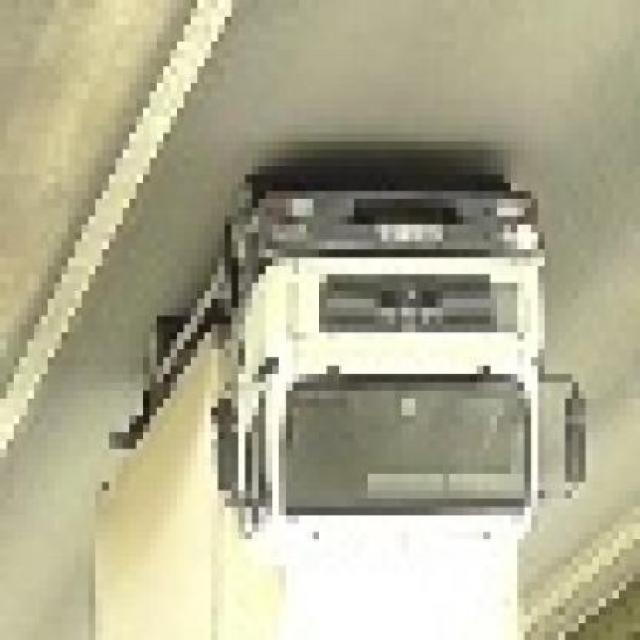truck: (97, 167, 588, 640)
